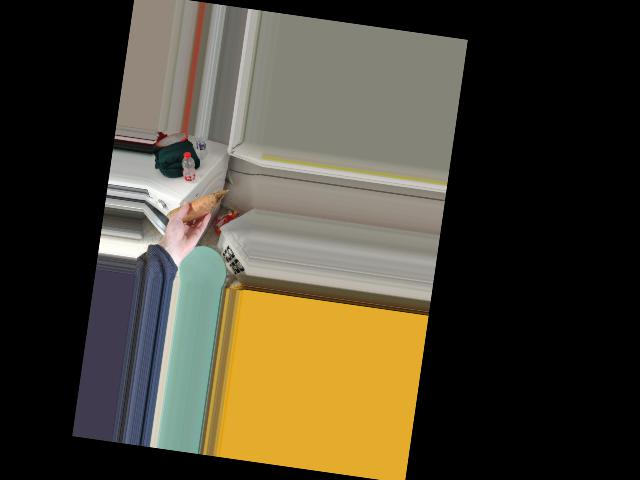sweet_potato: (176, 190, 212, 225)
